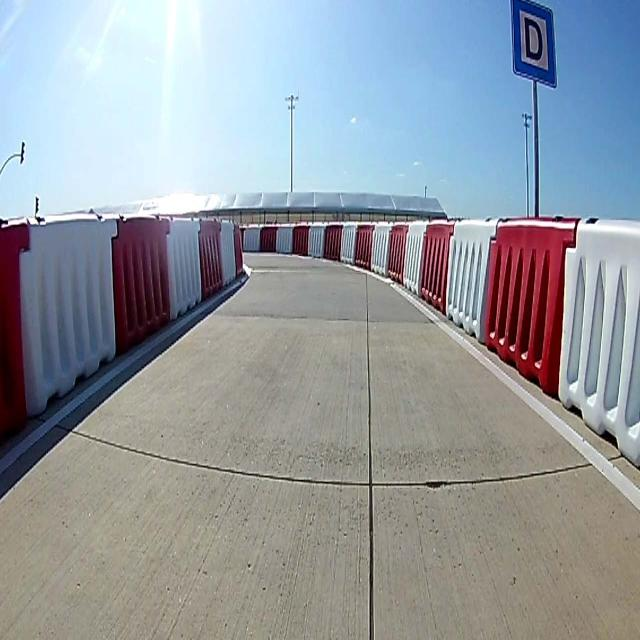durak: (511, 1, 557, 83)
